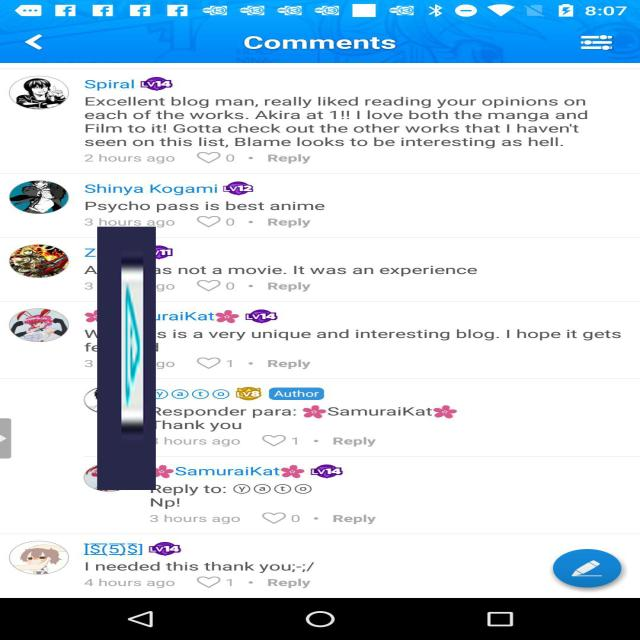sneaking: (97, 227, 156, 490)
